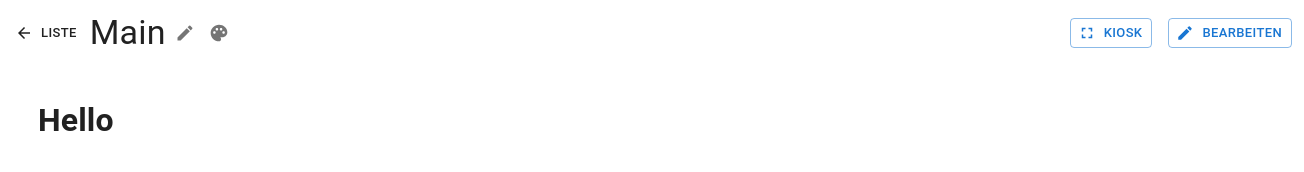
Test: DashboardPage › shows an inline error when renaming to an empty name
Expected: the heading "Main" is shown, [90,12,166,54]
Click the button named "Dashboard umbenennen".
click(185, 33)  # box [170,18,200,48]
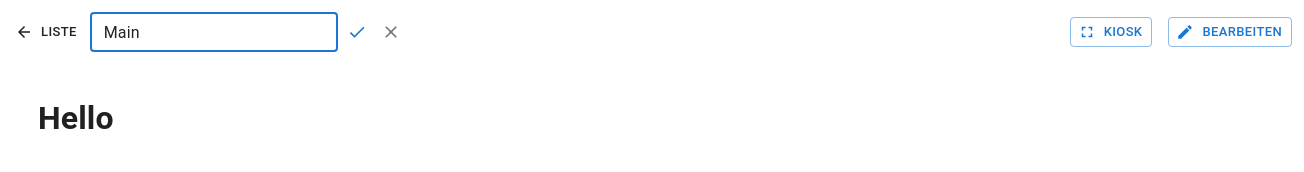
Clear the field named "Neuer Dashboard-Name" at (214, 32), box [90,12,338,52]
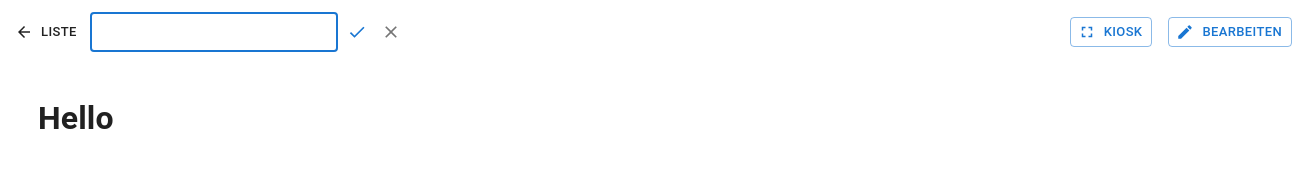
Click the button named "Umbenennen speichern".
click(357, 32)  # box [342,17,372,47]
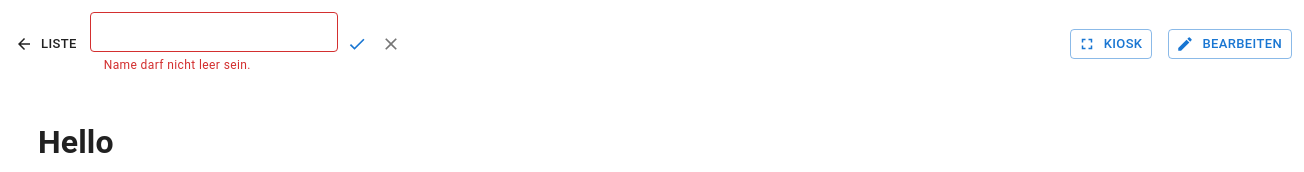
Now the text "Name darf nicht leer sein." is shown, box [104,58,251,72]
